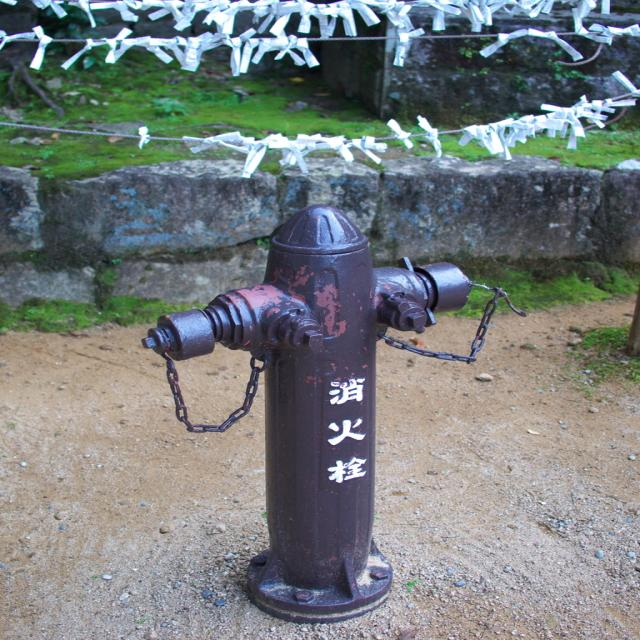fire_hydrant: (146, 206, 530, 623)
